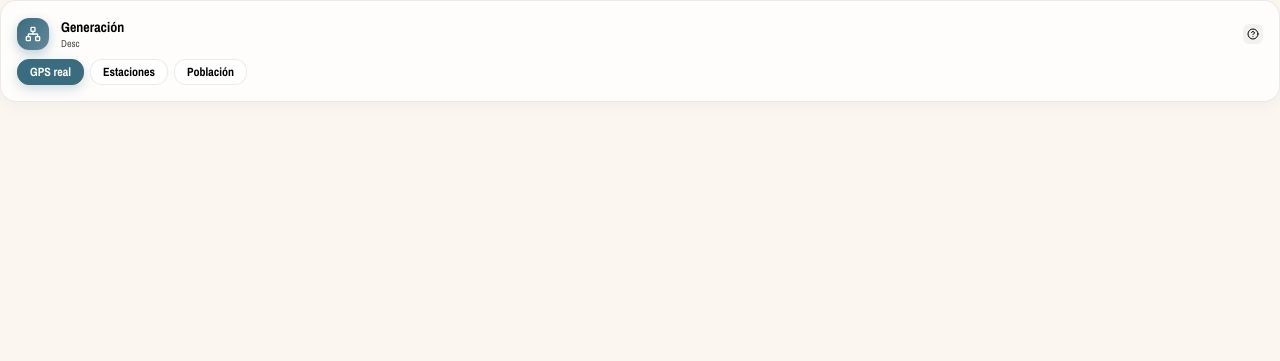
FilterCard — per-option methodology accordion › collapses an expanded other option when clicked again
What coordinates should you click on to do the following:
click the button named "mostrar información"
I would click on:
 (1253, 34)
Its box is left=1243, top=24, right=1263, bottom=44.
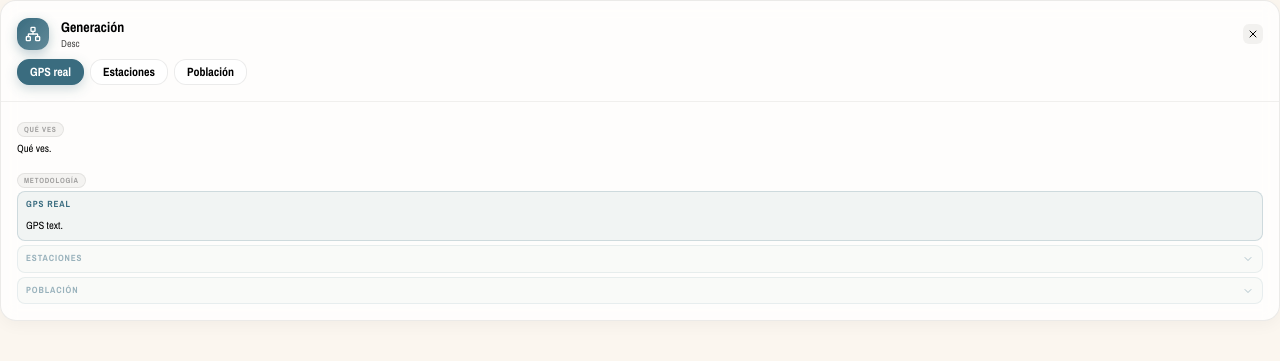
What coordinates should you click on to do the following:
click the button with aria-label "expandir estaciones"
I would click on:
 (54, 258)
Its box is left=18, top=246, right=1262, bottom=272.
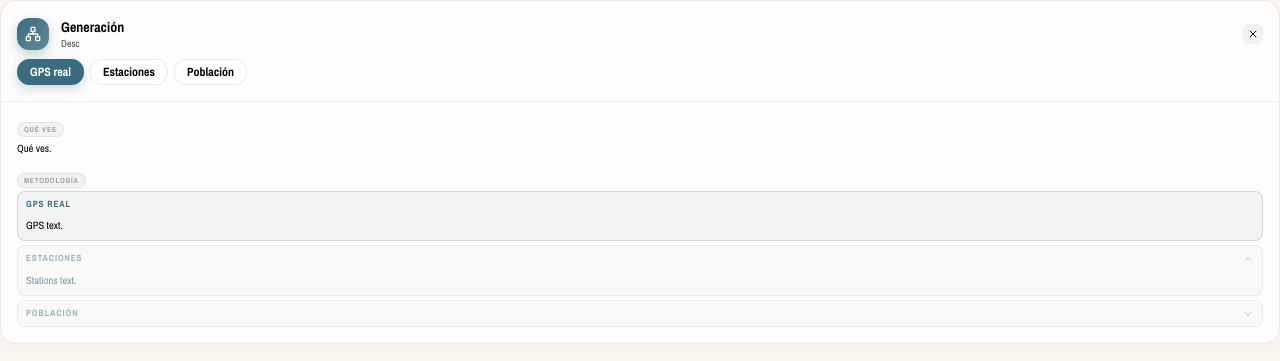
Now the text "Stations text." is shown, box left=26, top=273, right=76, bottom=287
What coordinates should you click on to do the following:
click the button with aria-label "colapsar estaciones"
I would click on:
 (54, 258)
Its box is left=18, top=246, right=1262, bottom=272.
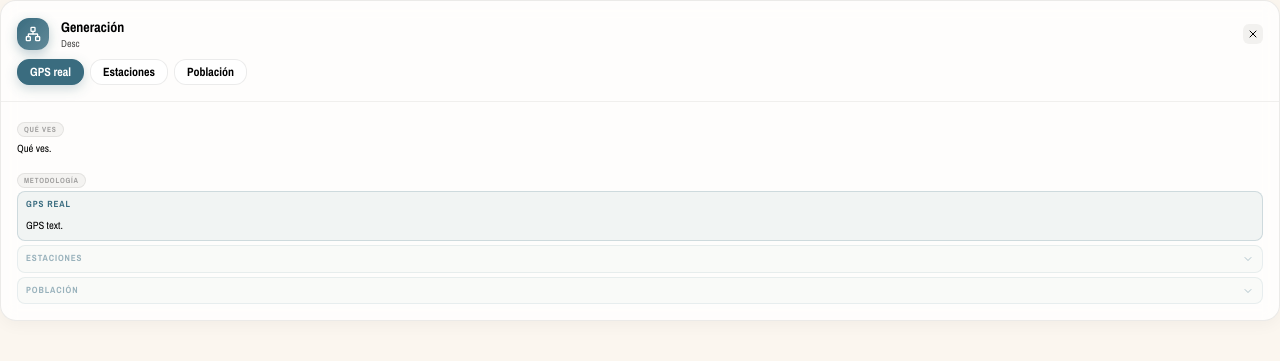
Now the text "Stations text." is gone
